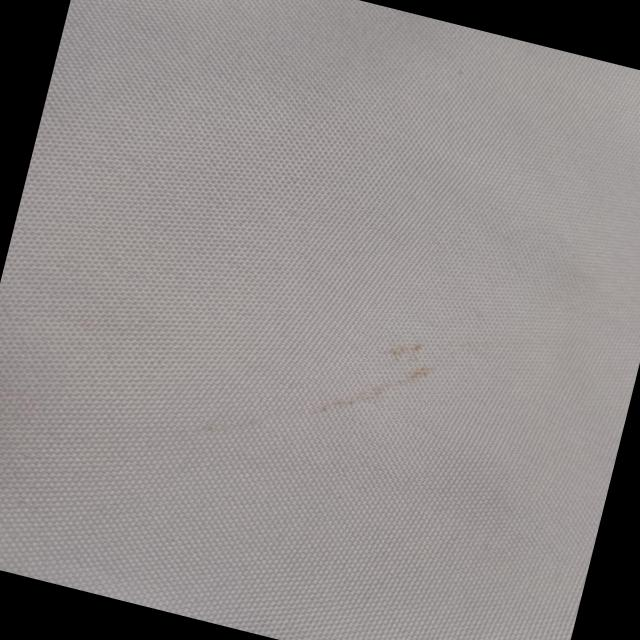stain: (171, 282, 456, 491)
